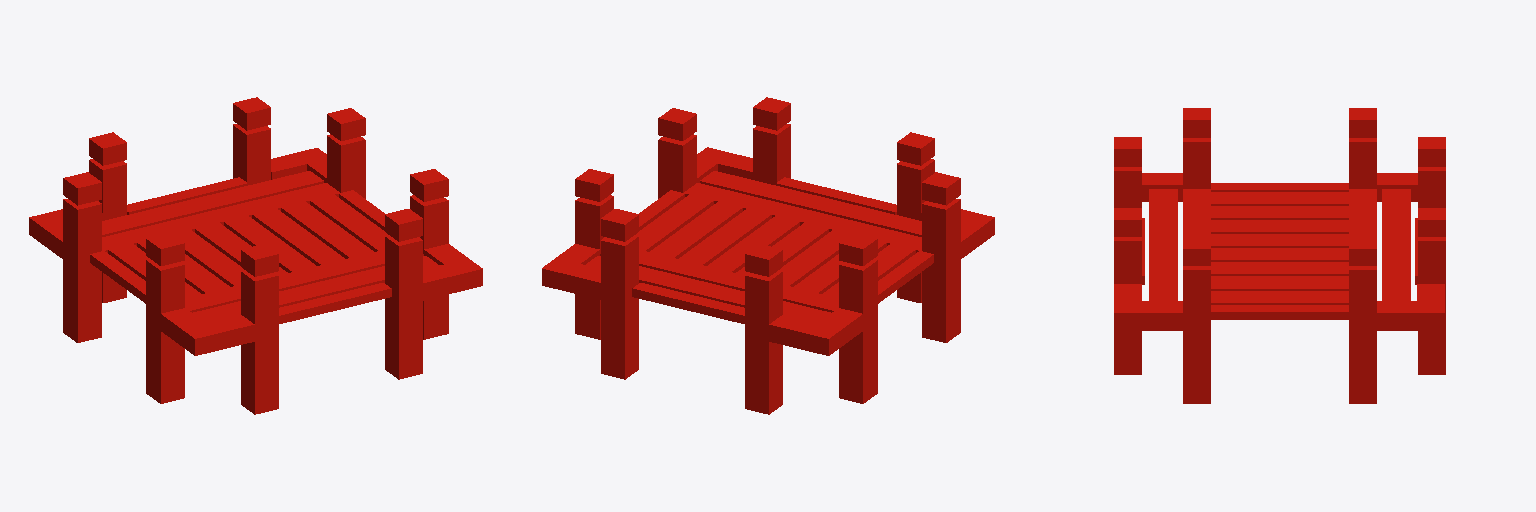
3 views of the same model, side by side, from view 1: azimuth 30°, elevation 25°; view 2: azimuth 150°, elevation 25°; view 3: azimuth 270°, elevation 25° (orthographic).
Parts seen in each view (by area): view 1: cube; view 2: cube; view 3: cube.
Part boxes in pixels (left/top/right/bottom): cube: left=29, top=97, right=482, bottom=414; cube: left=542, top=97, right=994, bottom=414; cube: left=1114, top=108, right=1445, bottom=403.
Size of the model in its own units: 1.09 by 0.5625 by 1.09.
1 materials, 1 textured.